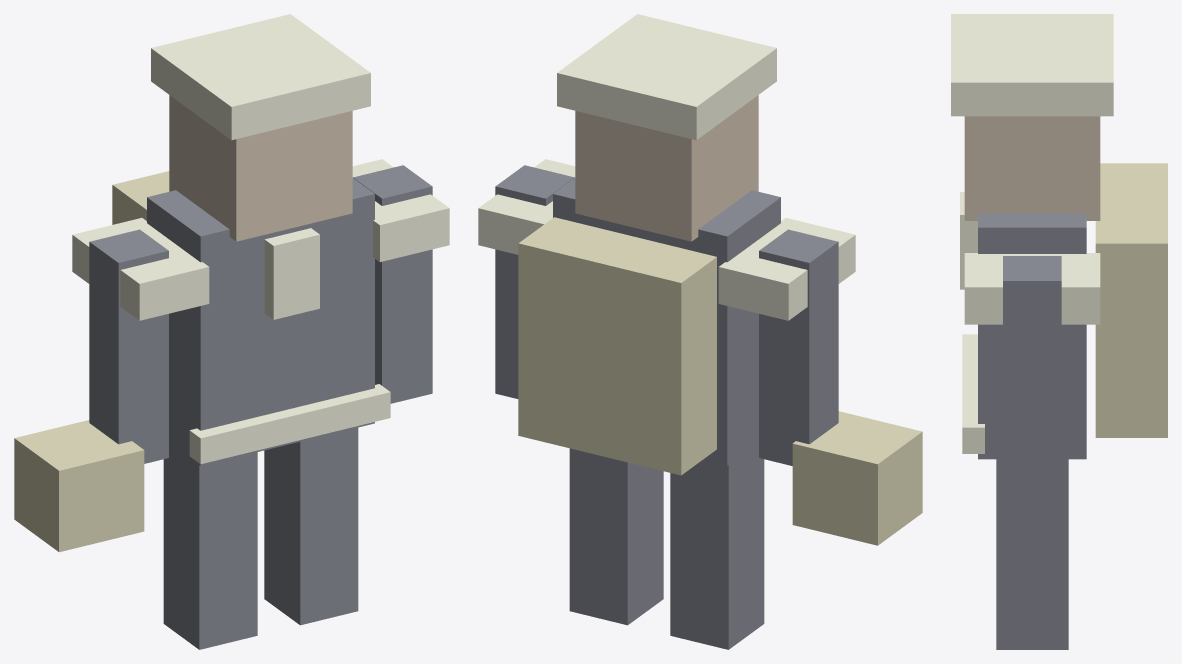
Rendered from 20_draven_trenchmark_marshal_of_integrity.glb.
3 renders of one model, left to right at view 1: azimuth 30°, elevation 25°; view 2: azimuth 150°, elevation 25°; view 3: azimuth 270°, elevation 25°, orthographic.
Visible parts, largest first — view 1: Draven Trenchmark, Marshal of Integrity; view 2: Draven Trenchmark, Marshal of Integrity; view 3: Draven Trenchmark, Marshal of Integrity.
Boxes of the visible parts, x1,y1,x2,y2 form: Draven Trenchmark, Marshal of Integrity: (14, 14, 449, 649); Draven Trenchmark, Marshal of Integrity: (478, 14, 922, 649); Draven Trenchmark, Marshal of Integrity: (951, 14, 1167, 649).
Size of the model in its own units: 1.06 by 1.46 by 0.509.
